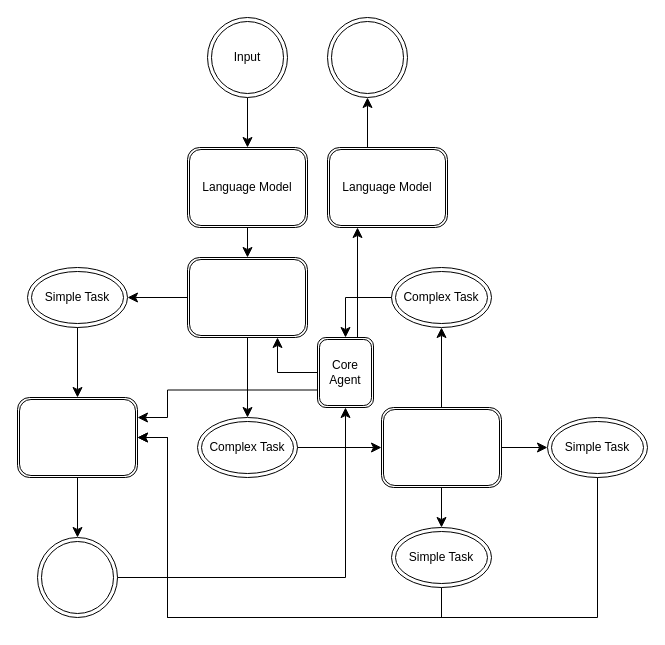
The diagram is 665 pixels wide and 645 high, and some of its shapes have lost their labels. The shapes that lost their labels are listed below. From the top down, each one's box as (x1, y1, x2, y2) in pixels, then its label:
(326, 16, 408, 98): Final Output
(186, 256, 308, 338): Classifier
(16, 396, 138, 478): Llama3.3 / Phi4
(380, 406, 502, 488): Task Breaker
(36, 536, 118, 618): Output Stream
